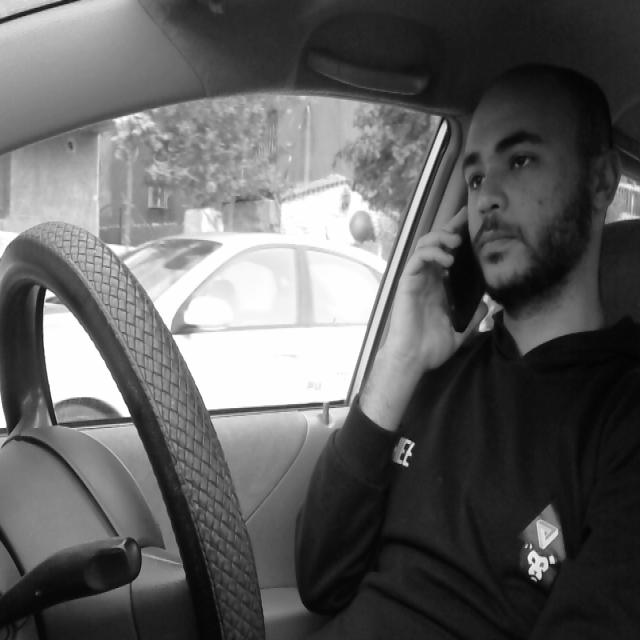mobile use: (434, 197, 508, 341)
